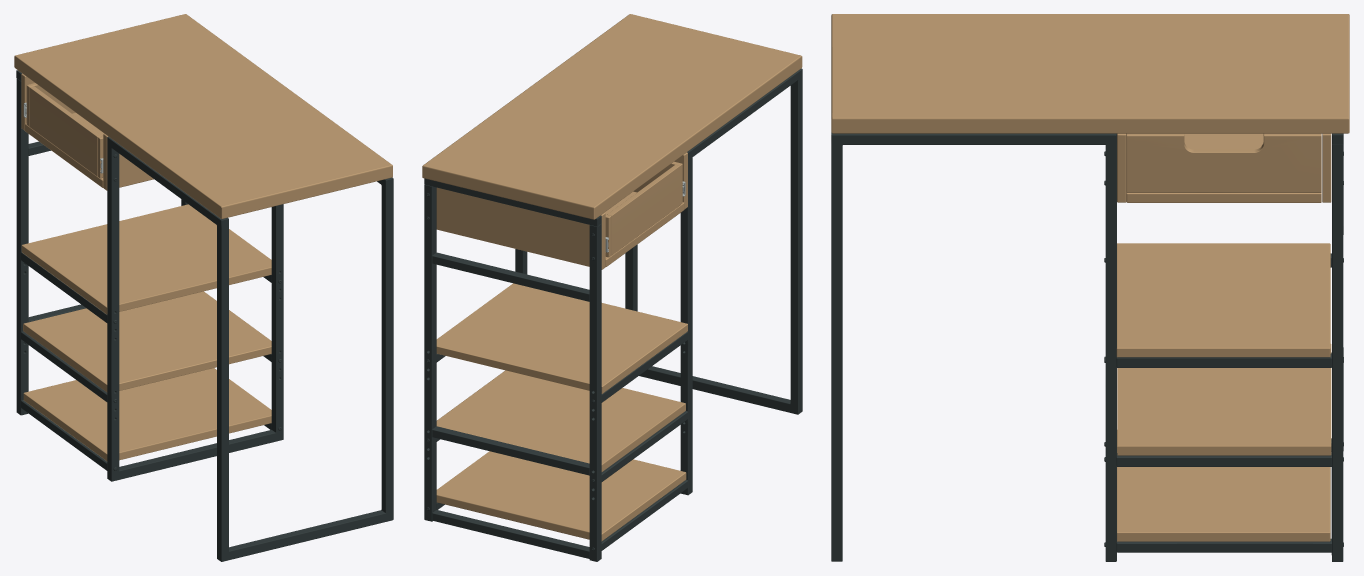
Rendered from facilitySystem_beverageStation_breakArea_a01.glb.
3 renders of one model, left to right at view 1: azimuth 30°, elevation 25°; view 2: azimuth 150°, elevation 25°; view 3: azimuth 270°, elevation 25°, orthographic. The views are drawn at different scales.
Bounding box in the file's own units: 0.5068 × 0.9836 × 1.04.
